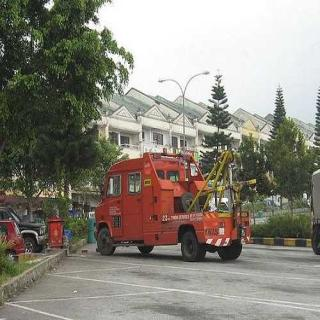Towing_truck: (93, 146, 256, 262)
